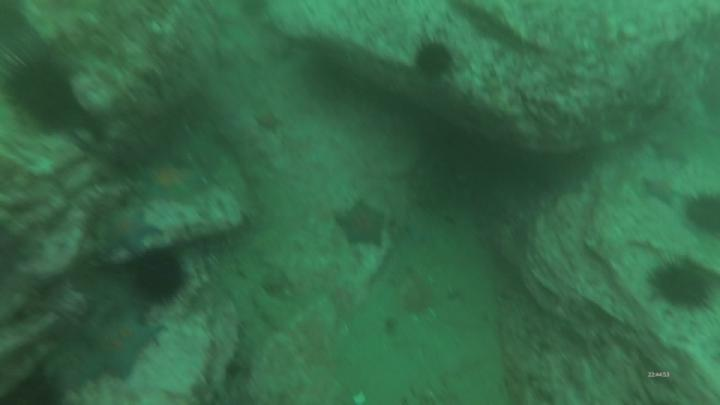echinus: (11, 56, 81, 138), (645, 251, 714, 316), (131, 242, 188, 302), (307, 59, 355, 107), (413, 36, 457, 84), (4, 372, 64, 405), (682, 191, 720, 236)
starfish: (88, 306, 166, 382), (122, 152, 215, 211), (89, 203, 163, 270), (48, 341, 109, 398), (332, 198, 393, 255), (642, 175, 686, 211), (648, 134, 693, 166), (250, 108, 287, 136)
